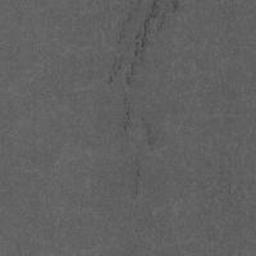Inclusion: (122, 0, 182, 134), (106, 0, 142, 86), (143, 125, 157, 152), (133, 163, 142, 197)
